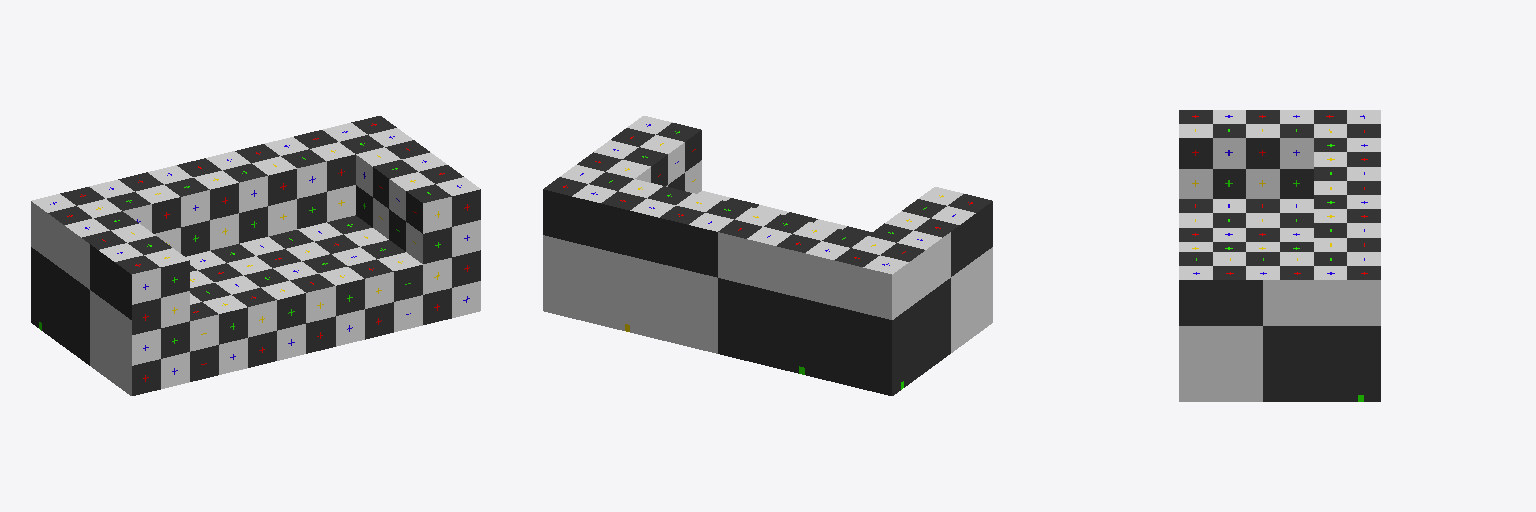
3 renders of one model, left to right at view 1: azimuth 30°, elevation 25°; view 2: azimuth 150°, elevation 25°; view 3: azimuth 270°, elevation 25°, orthographic.
Parts seen in each view (by area): view 1: Cube; view 2: Cube; view 3: Cube.
Boxes of the visible parts, box(x1,y1,x2,y2) form: Cube: box(31, 116, 480, 395); Cube: box(543, 116, 992, 395); Cube: box(1179, 110, 1380, 401).
Size of the model in its own units: 6 by 2 by 3.
1 materials, 1 textured.